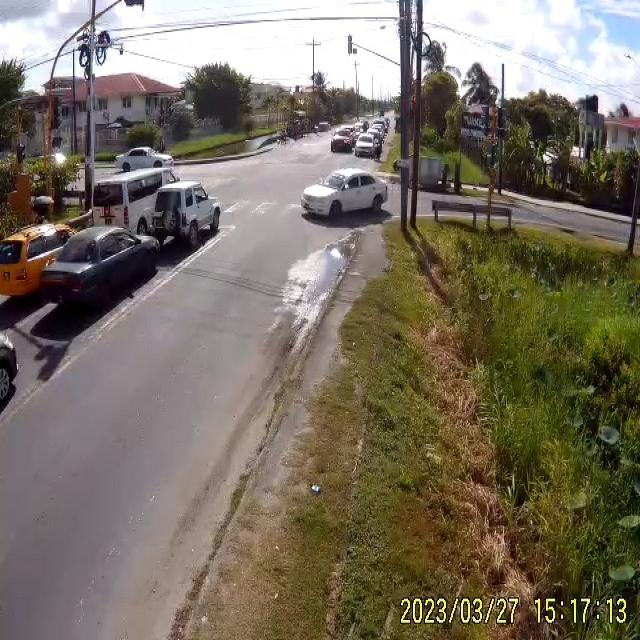car: (39, 226, 162, 315), (1, 226, 76, 299), (153, 181, 224, 253), (300, 171, 386, 221), (119, 148, 175, 172), (355, 133, 382, 158), (331, 132, 355, 155)
